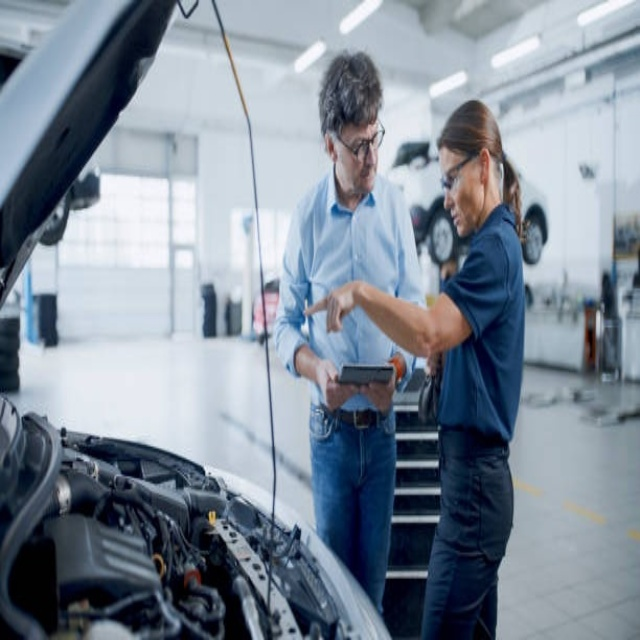Gafas: (335, 121, 385, 162), (437, 151, 486, 192)
Sin_guantes: (301, 283, 363, 331), (313, 355, 360, 411), (363, 359, 398, 415)
Sin_mascara: (445, 203, 465, 236), (358, 162, 381, 190)
